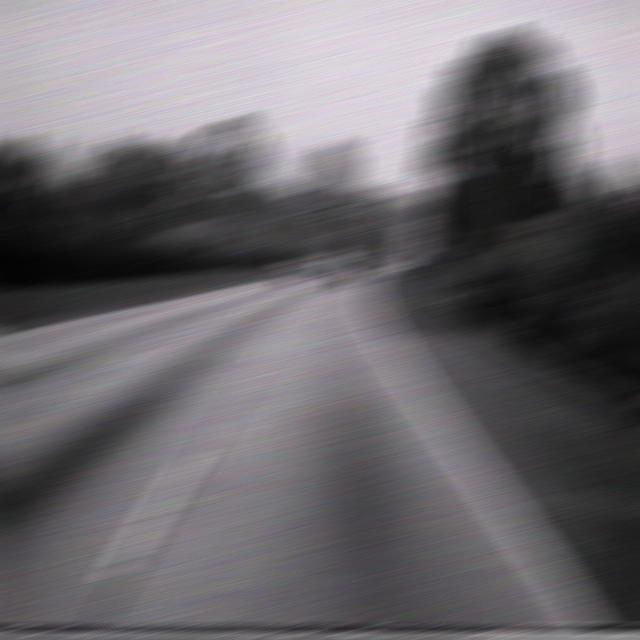speedLimit65: (401, 219, 429, 246)
